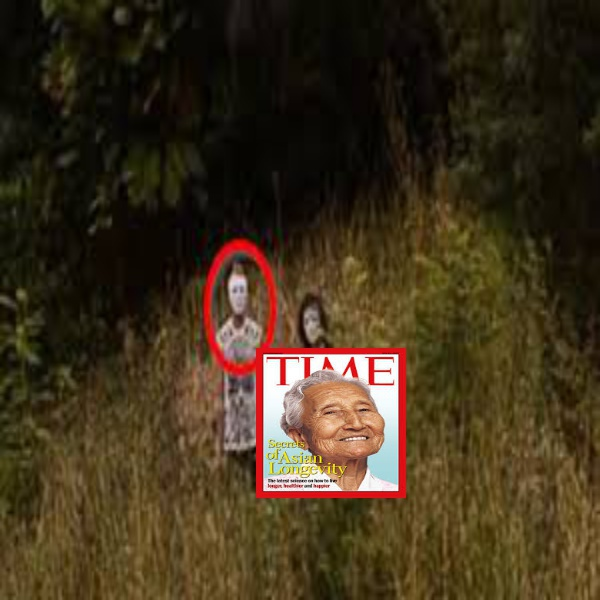time_cover: (257, 332, 409, 498)
